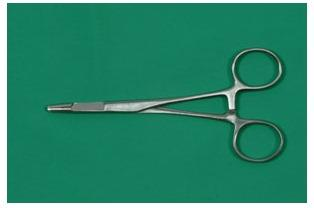Needle Holder: (41, 44, 295, 165)
